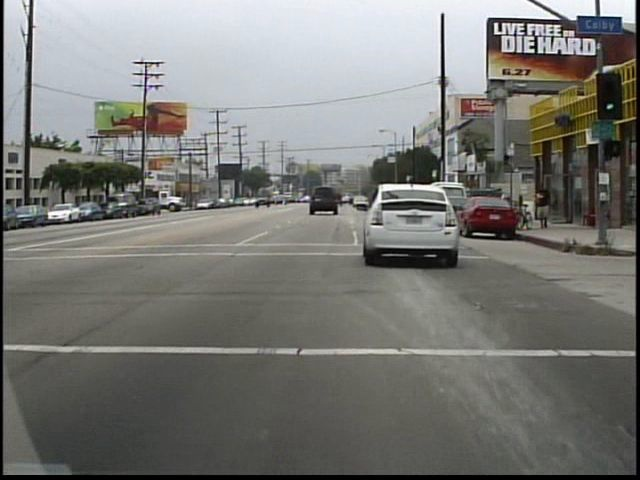person: (534, 177, 556, 233)
